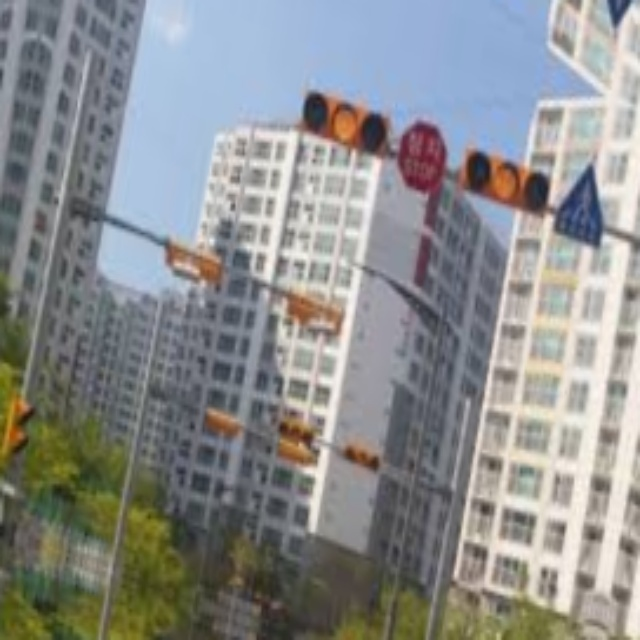yellow_light: (490, 160, 521, 203), (329, 104, 360, 144)
